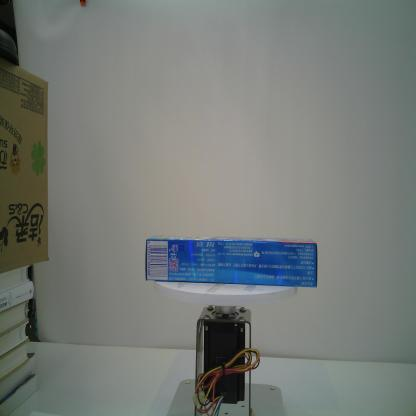Personal Hygiene: (144, 234, 318, 289)
